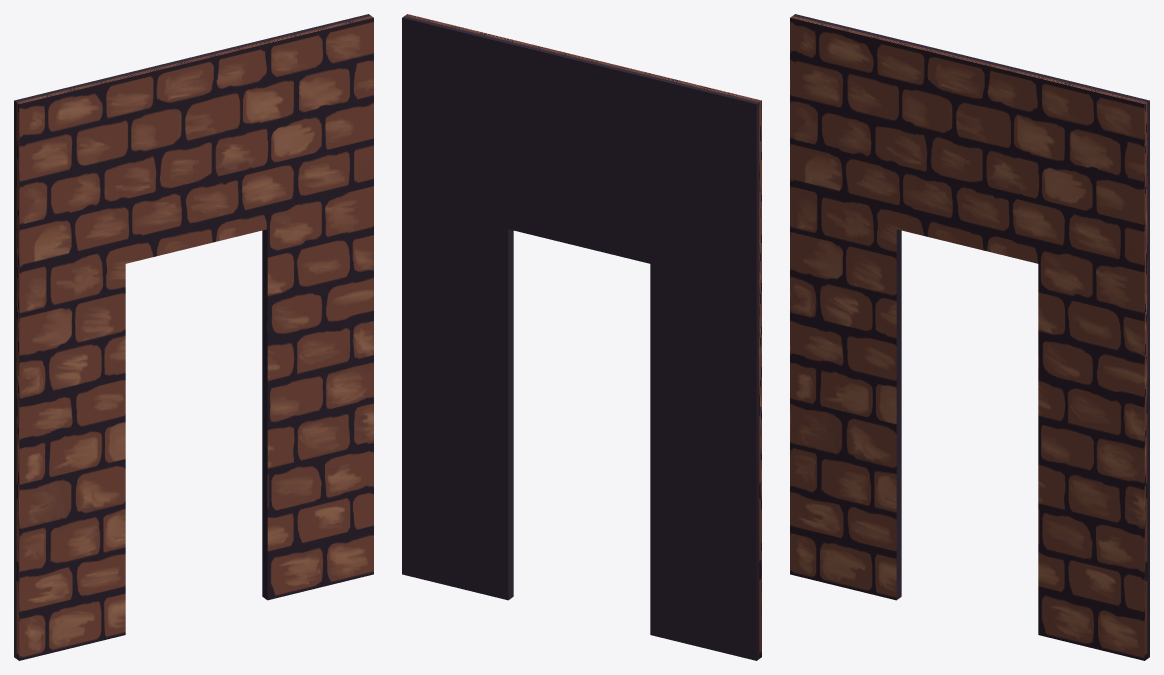
Rendered from Door_Frame.fbx.
3 renders of one model, left to right at view 1: azimuth 30°, elevation 25°; view 2: azimuth 150°, elevation 25°; view 3: azimuth 330°, elevation 25°, orthographic.
Visible parts, largest first — view 1: polySurface4; view 2: polySurface4; view 3: polySurface4.
Boxes of the visible parts, box(x1,y1,x2,y2) form: polySurface4: box(14, 14, 373, 660); polySurface4: box(402, 14, 761, 660); polySurface4: box(790, 14, 1149, 660).
Bounding box in the file's own units: 2 × 3 × 0.05.
Materials: 3 (3 with a texture image).
